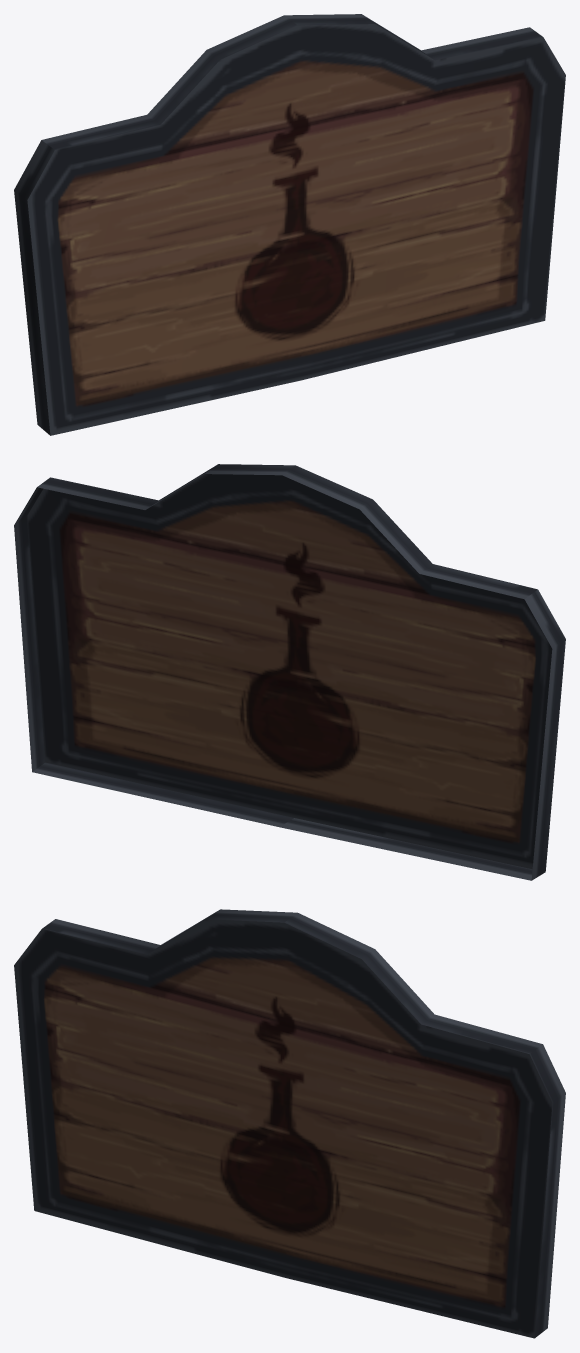
Rendered from SM_PROP_sign_city_09.fbx.
The picture shows the model from 3 angles, top to bottom: view 1: azimuth 30°, elevation 25°; view 2: azimuth 150°, elevation 25°; view 3: azimuth 330°, elevation 25°; orthographic projection.
Visible parts, largest first — view 1: SM_PROP_sign_city_09; view 2: SM_PROP_sign_city_09; view 3: SM_PROP_sign_city_09.
Part boxes in pixels (x1,y1,x2,y2): SM_PROP_sign_city_09: [14, 14, 565, 435]; SM_PROP_sign_city_09: [14, 464, 565, 880]; SM_PROP_sign_city_09: [14, 909, 565, 1338].
Bounding box in the file's own units: 97.89 × 62.02 × 5.4.
